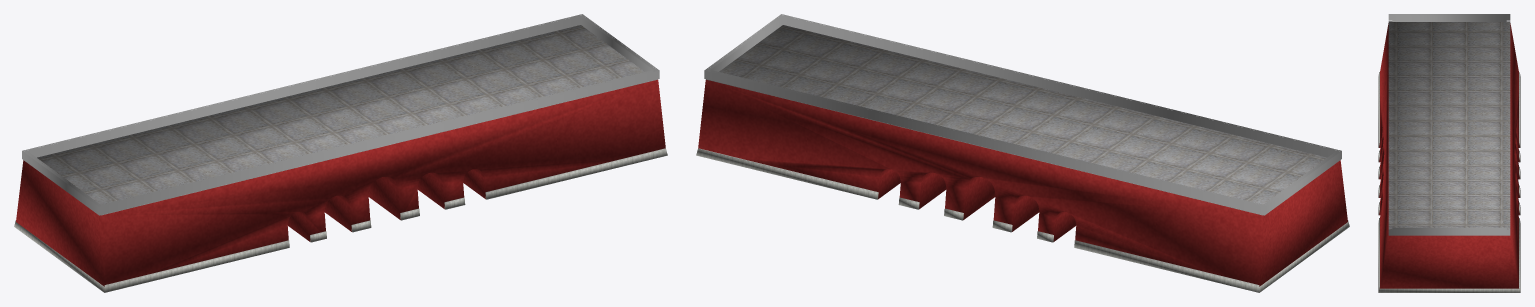
File: CityGate_Base_UE.fbx
The picture shows the model from 3 angles, left to right: view 1: azimuth 30°, elevation 25°; view 2: azimuth 150°, elevation 25°; view 3: azimuth 270°, elevation 25°; orthographic projection. The views are drawn at different scales.
Parts seen in each view (by area): view 1: CityGate_Wall, CityGate_Railing, CityGate_Footing, CityGate_Floor; view 2: CityGate_Wall, CityGate_Railing, CityGate_Footing, CityGate_Floor; view 3: CityGate_Wall, CityGate_Railing, CityGate_Footing, CityGate_Floor.
Boxes of the visible parts, x1,y1,x2,y2 form: CityGate_Wall: [16, 25, 665, 286]; CityGate_Railing: [22, 15, 659, 215]; CityGate_Footing: [14, 148, 667, 292]; CityGate_Floor: [22, 14, 659, 208]; CityGate_Wall: [698, 25, 1347, 286]; CityGate_Railing: [704, 15, 1341, 215]; CityGate_Footing: [696, 148, 1349, 292]; CityGate_Floor: [704, 14, 1341, 208]; CityGate_Wall: [1379, 21, 1519, 288]; CityGate_Railing: [1388, 14, 1510, 235]; CityGate_Footing: [1378, 72, 1520, 292]; CityGate_Floor: [1388, 14, 1510, 229].
Size of the model in its own units: 6352 by 868 by 1765.
4 materials, 3 textured.
